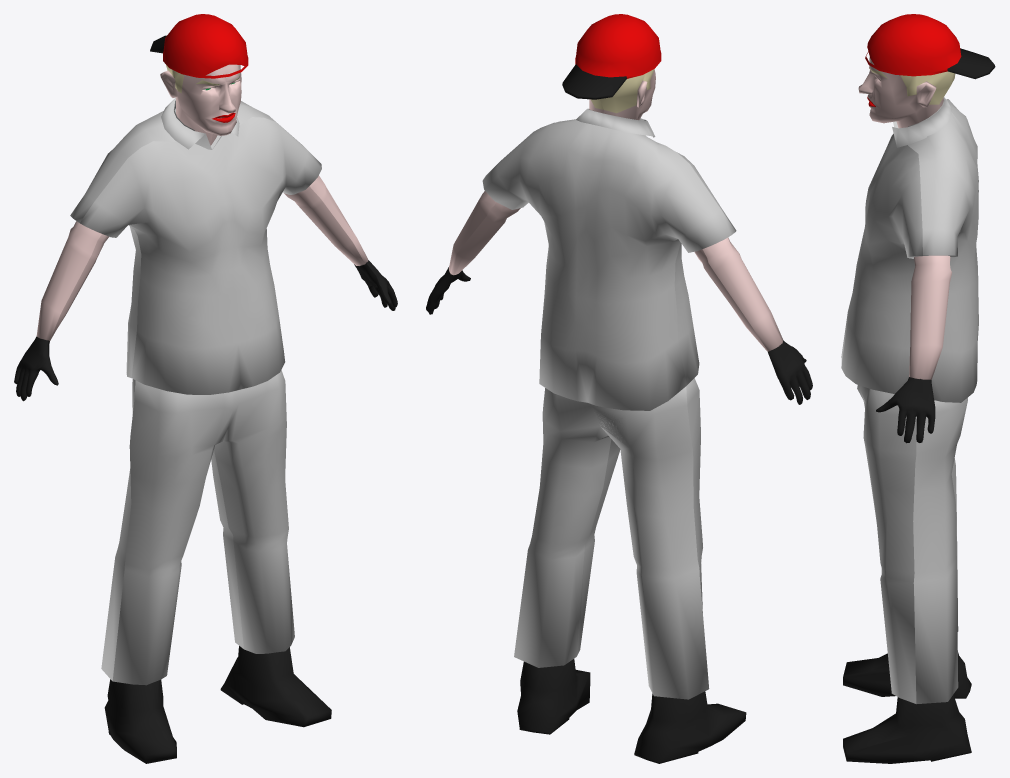
Rendered from worker.obj.
3 views of the same model, side by side, from view 1: azimuth 30°, elevation 25°; view 2: azimuth 150°, elevation 25°; view 3: azimuth 270°, elevation 25° (orthographic).
Parts seen in each view (by area): view 1: Imported OBJ Object_sep42, Imported OBJ Object_sep37, Imported OBJ Object_sep39, Imported OBJ Object_sep38, Imported OBJ Object_sep2, Imported OBJ Object_sep29, Imported OBJ Object_sep40, Imported OBJ Object_sep28, Imported OBJ Object_sep35, Imported OBJ Object_sep41; view 2: Imported OBJ Object_sep42, Imported OBJ Object_sep37, Imported OBJ Object_sep2, Imported OBJ Object_sep38, Imported OBJ Object_sep39, Imported OBJ Object_sep40, Imported OBJ Object_sep28, Imported OBJ Object_sep29, Imported OBJ Object_sep35, Imported OBJ Object_sep41; view 3: Imported OBJ Object_sep42, Imported OBJ Object_sep37, Imported OBJ Object_sep39, Imported OBJ Object_sep2, Imported OBJ Object_sep28, Imported OBJ Object_sep29, Imported OBJ Object_sep41, Imported OBJ Object_sep38.
Boxes of the visible parts, x1=… form: Imported OBJ Object_sep42: x1=70, y1=98, x2=321, y2=394; Imported OBJ Object_sep37: x1=101, y1=370, x2=294, y2=685; Imported OBJ Object_sep39: x1=220, y1=646, x2=331, y2=727; Imported OBJ Object_sep38: x1=104, y1=679, x2=176, y2=763; Imported OBJ Object_sep2: x1=150, y1=14, x2=248, y2=78; Imported OBJ Object_sep29: x1=160, y1=64, x2=241, y2=145; Imported OBJ Object_sep40: x1=36, y1=221, x2=108, y2=341; Imported OBJ Object_sep28: x1=284, y1=175, x2=368, y2=265; Imported OBJ Object_sep35: x1=14, y1=336, x2=58, y2=401; Imported OBJ Object_sep41: x1=354, y1=260, x2=397, y2=310; Imported OBJ Object_sep42: x1=482, y1=108, x2=736, y2=410; Imported OBJ Object_sep37: x1=514, y1=378, x2=709, y2=699; Imported OBJ Object_sep2: x1=562, y1=14, x2=661, y2=99; Imported OBJ Object_sep38: x1=634, y1=691, x2=746, y2=763; Imported OBJ Object_sep39: x1=517, y1=659, x2=590, y2=734; Imported OBJ Object_sep40: x1=694, y1=237, x2=783, y2=351; Imported OBJ Object_sep28: x1=448, y1=191, x2=520, y2=275; Imported OBJ Object_sep29: x1=589, y1=69, x2=655, y2=120; Imported OBJ Object_sep35: x1=768, y1=340, x2=812, y2=404; Imported OBJ Object_sep41: x1=426, y1=267, x2=470, y2=314; Imported OBJ Object_sep42: x1=841, y1=97, x2=978, y2=402; Imported OBJ Object_sep37: x1=857, y1=385, x2=967, y2=704; Imported OBJ Object_sep39: x1=843, y1=694, x2=971, y2=763; Imported OBJ Object_sep2: x1=865, y1=14, x2=995, y2=79; Imported OBJ Object_sep28: x1=909, y1=255, x2=952, y2=379; Imported OBJ Object_sep29: x1=858, y1=57, x2=955, y2=128; Imported OBJ Object_sep41: x1=876, y1=377, x2=935, y2=443; Imported OBJ Object_sep38: x1=843, y1=652, x2=971, y2=698.
Size of the model in its own units: 0.4401 by 0.7873 by 0.1569.
